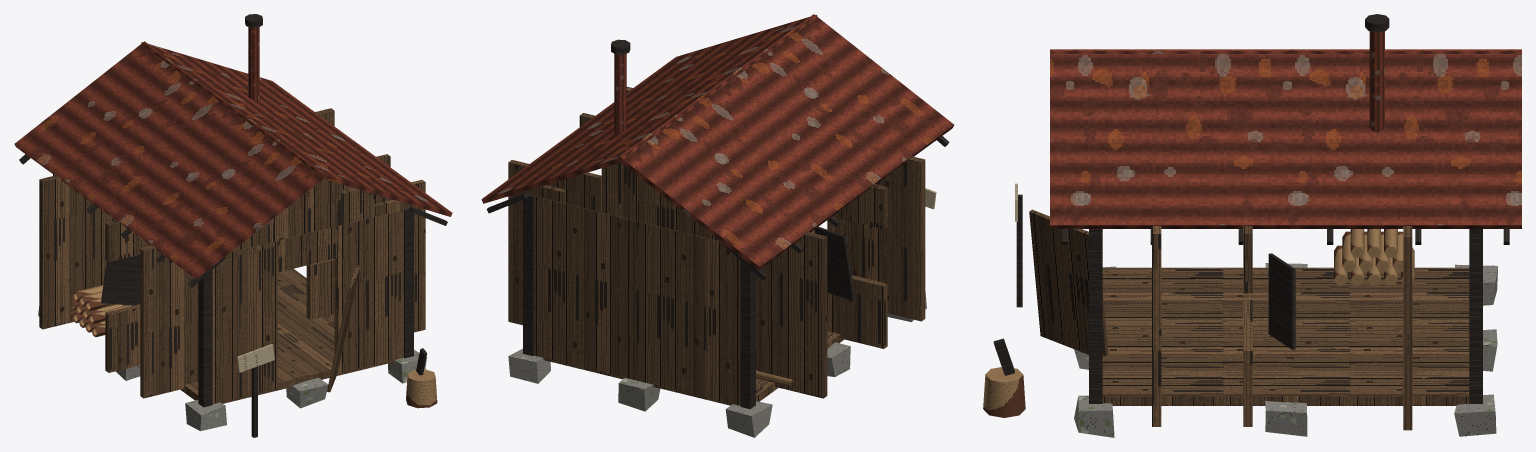
File: prop_hut.glb
3 views of the same model, side by side, from view 1: azimuth 30°, elevation 25°; view 2: azimuth 150°, elevation 25°; view 3: azimuth 270°, elevation 25° (orthographic). The views are drawn at different scales.
Parts seen in each view (by area): view 1: prop_hut; view 2: prop_hut; view 3: prop_hut.
Part boxes in pixels (box(x1,y1,x2,y2)): prop_hut: box(14, 14, 452, 437); prop_hut: box(481, 14, 954, 437); prop_hut: box(983, 14, 1521, 437).
Bounding box in the file's own units: 5.8 × 5.53 × 7.08.
Materials: 6 (6 with a texture image).
